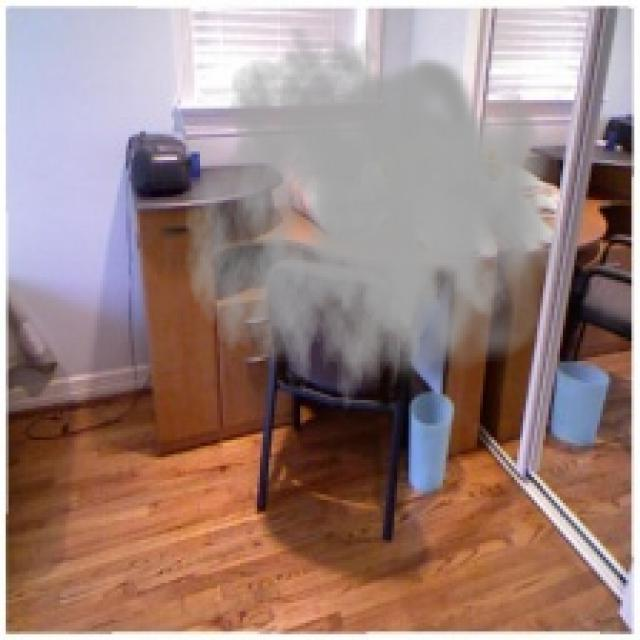smoke: (183, 23, 566, 428)
